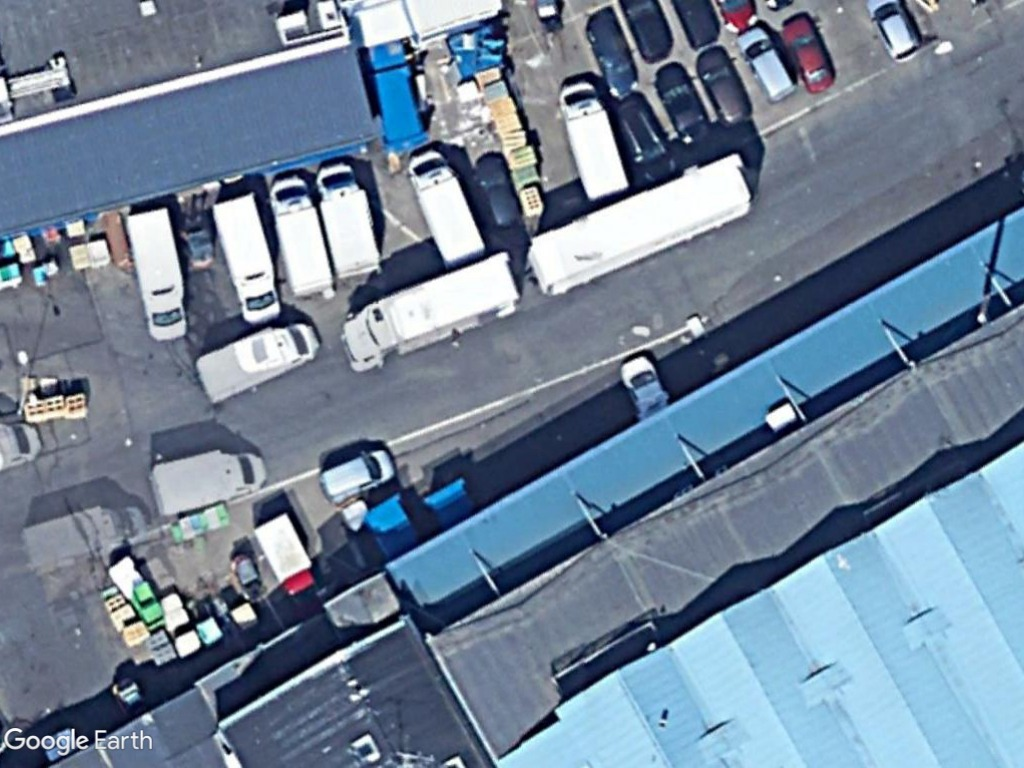car: (649, 58, 717, 149), (775, 8, 840, 100), (698, 40, 760, 133), (735, 24, 800, 106)
truck: (329, 246, 520, 388), (549, 74, 633, 203)
van: (395, 138, 500, 273), (190, 313, 322, 409), (207, 189, 291, 322), (119, 202, 193, 345), (140, 448, 273, 521), (311, 156, 387, 283), (265, 171, 335, 300), (576, 2, 646, 108), (316, 442, 400, 512)
